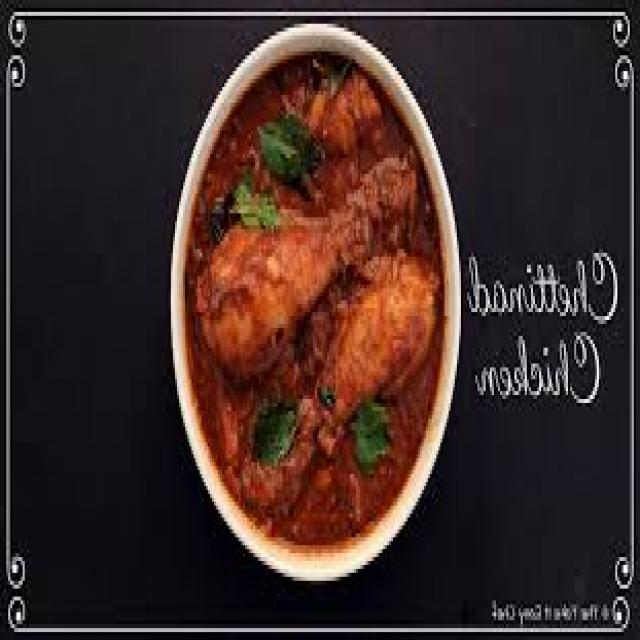Chicken Curry: (179, 51, 447, 561)
